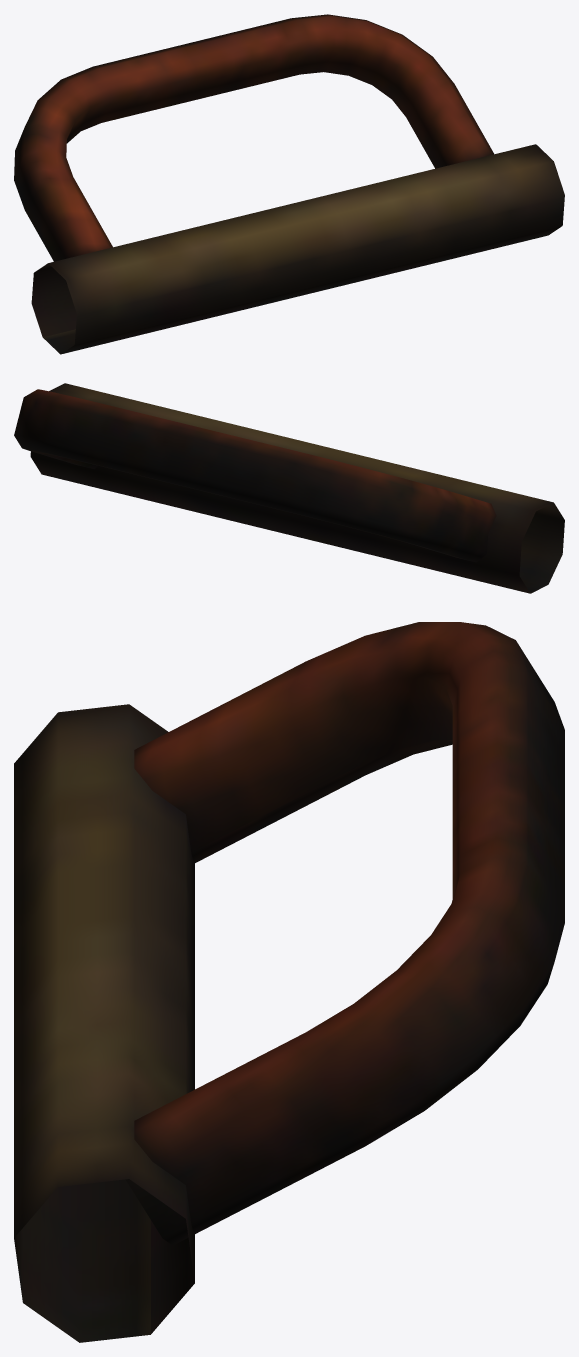
The model's file is 01_05_transporter_passenger_escape_hatch_handle.dae.
3 views of the same model, one above another, from view 1: azimuth 30°, elevation 25°; view 2: azimuth 150°, elevation 25°; view 3: azimuth 270°, elevation 25° (orthographic). The views are drawn at different scales.
Visible parts, largest first — view 1: polySurface1119; view 2: polySurface1119; view 3: polySurface1119.
Part boxes in pixels (x1,y1,x2,y2): polySurface1119: (14,14,564,354); polySurface1119: (14,383,564,593); polySurface1119: (14,622,564,1342).
Bounding box in the file's own units: 0.3827 × 0.1306 × 0.1877.
